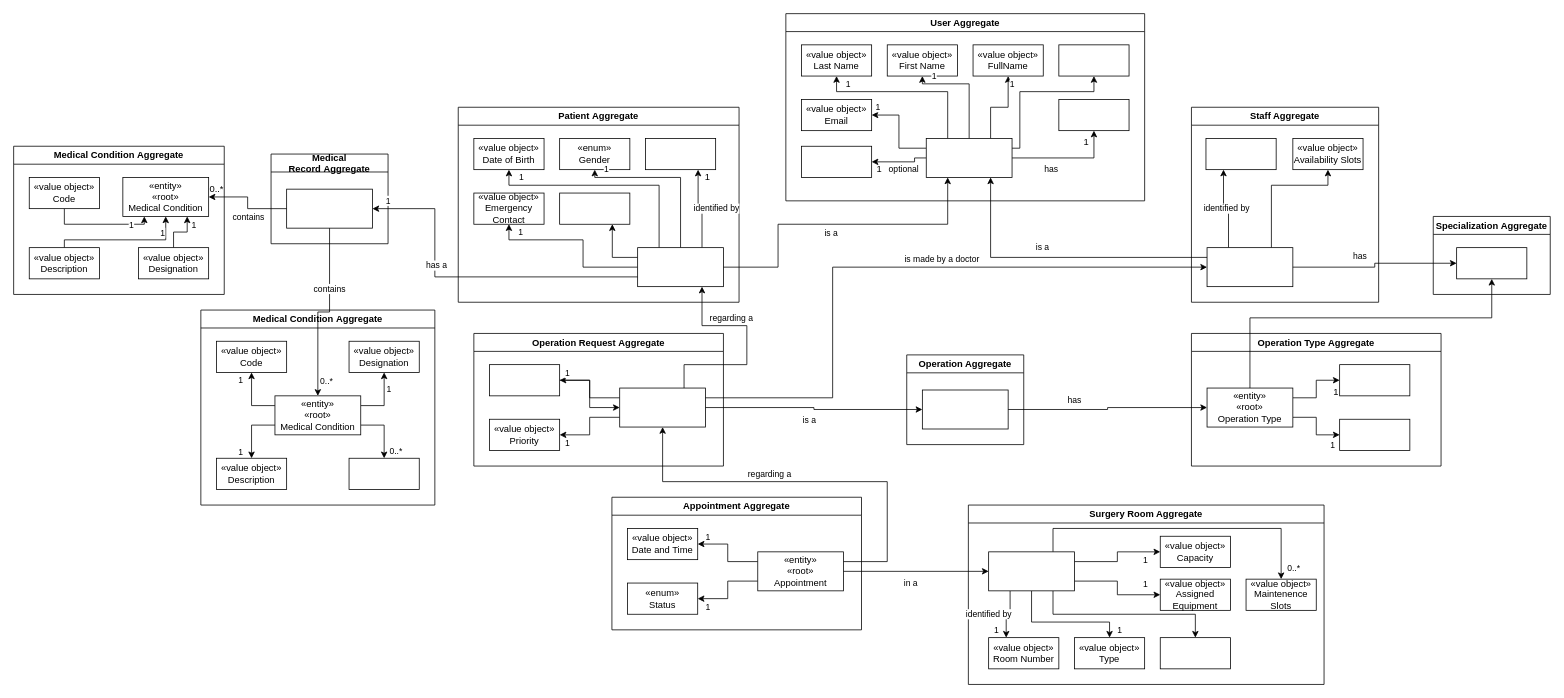
Some shapes in this 1564 by 698 pixel diagram are drawn without their labels. Each missing label, with the centre of its shape:
«entity » «value object» Specialization: (x=1491, y=263)
«entity» «root» Medical Record: (x=329, y=208)
«entity» «root» Operation: (x=965, y=409)
«entity» «root» Operation Request: (x=662, y=407)
«entity» «root» Patient: (x=680, y=267)
«entity» «root» Staff: (x=1249, y=267)
«entity» «root» Surgery Room: (x=1031, y=571)
«entity» «root» User: (x=968, y=157)
«enum» Current Status: (x=1194, y=653)
«enum» Role: (x=1093, y=115)
«value object» Appointment History: (x=594, y=208)
«value object» Common Symptoms: (x=383, y=473)
«value object» Deadline Date: (x=524, y=380)
«value object» Estimated Duration: (x=1374, y=434)
«value object» License Number: (x=1240, y=154)
«value object» Medical Record Number: (x=680, y=154)
«value object» Name: (x=1374, y=380)
«value object» Phone Number: (x=836, y=161)
«value object» UserName: (x=1093, y=60)
